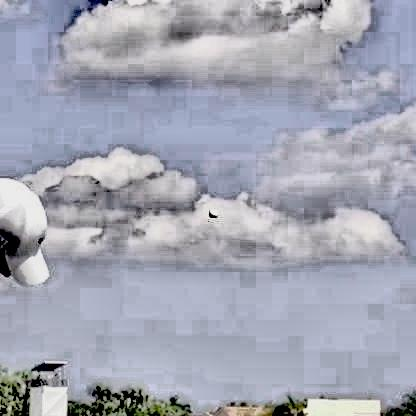golfball: (206, 206, 215, 215)
